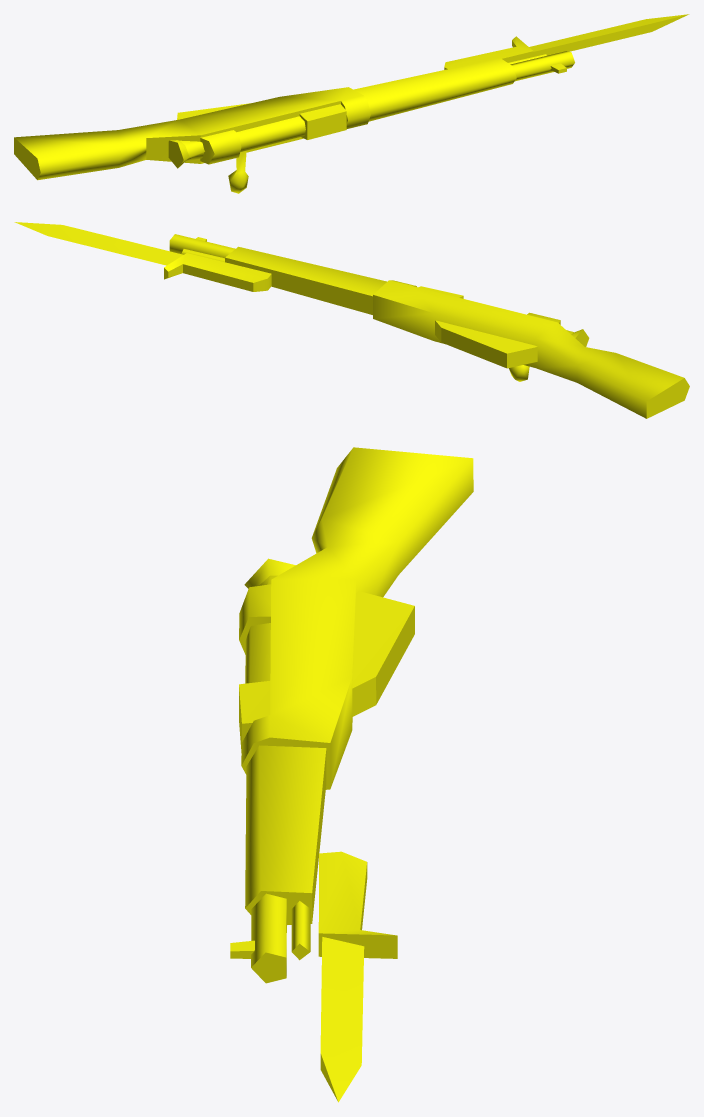
Rendered from weapon_mosin_nagant_bayonet.glb.
3 renders of one model, top to bottom at view 1: azimuth 30°, elevation 25°; view 2: azimuth 150°, elevation 25°; view 3: azimuth 270°, elevation 25°, orthographic. The views are drawn at different scales.
Visible parts, largest first — view 1: weapon_mosin_nagant_bayonet; view 2: weapon_mosin_nagant_bayonet; view 3: weapon_mosin_nagant_bayonet.
Part boxes in pixels (box(x1,y1,x2,y2)): weapon_mosin_nagant_bayonet: box(14, 14, 689, 193); weapon_mosin_nagant_bayonet: box(14, 222, 689, 418); weapon_mosin_nagant_bayonet: box(230, 447, 473, 1102).
Size of the model in its own units: 2.36 by 0.2346 by 0.3823.
1 material, 1 textured.
